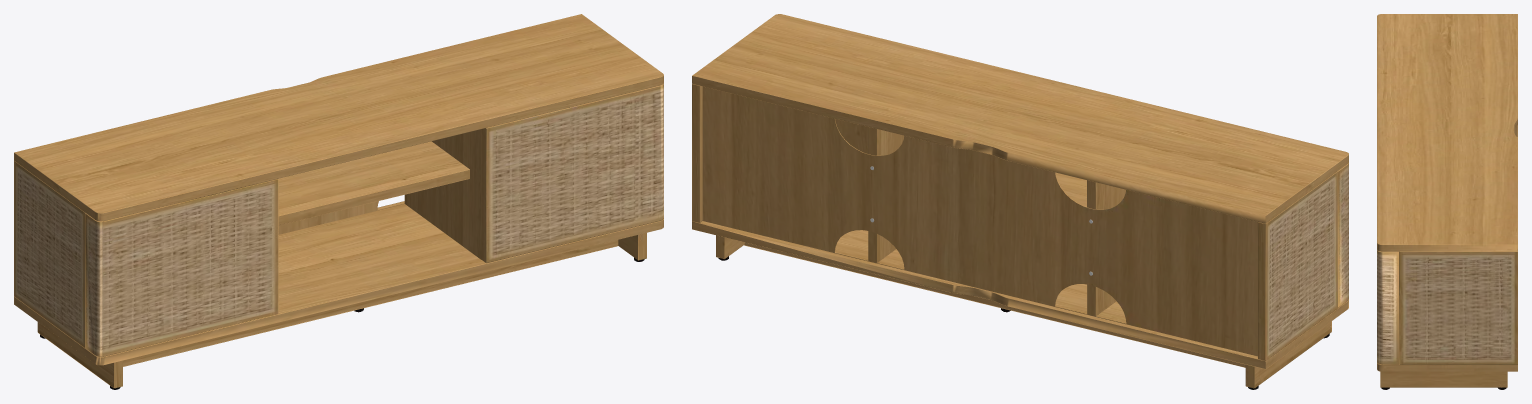
3 renders of one model, left to right at view 1: azimuth 30°, elevation 25°; view 2: azimuth 150°, elevation 25°; view 3: azimuth 270°, elevation 25°, orthographic. The views are drawn at different scales.
Visible parts, largest first — view 1: Mesh_0; view 2: Mesh_0; view 3: Mesh_0.
Boxes of the visible parts, <box> form: Mesh_0: <box>14,14,663,389</box>; Mesh_0: <box>692,14,1348,389</box>; Mesh_0: <box>1377,14,1517,389</box>.
Size of the model in its own units: 1.59 by 0.4901 by 0.4101.
Materials: 1 (1 with a texture image).
